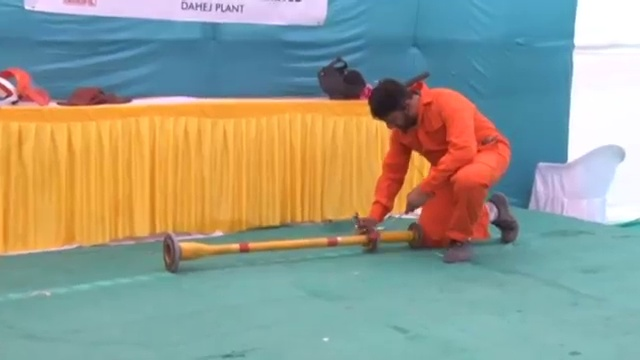helmet_off: (368, 78, 417, 129)
person: (363, 74, 522, 252)
